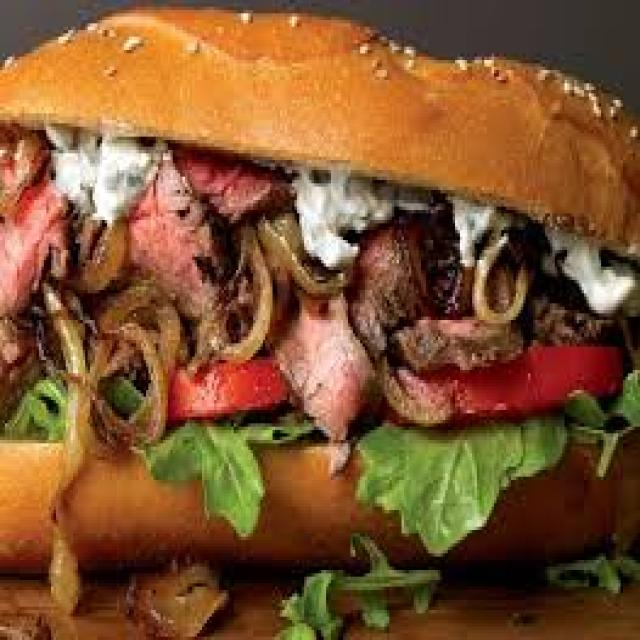Sandwich: (4, 36, 640, 557)
